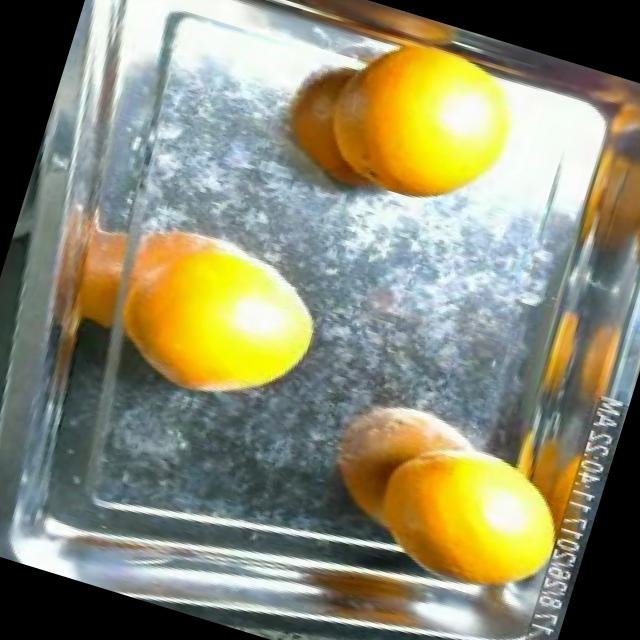Fruit: (336, 406, 593, 620), (110, 208, 350, 436)
